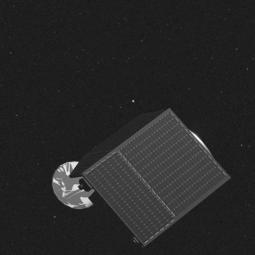cheops: (53, 105, 227, 245)
